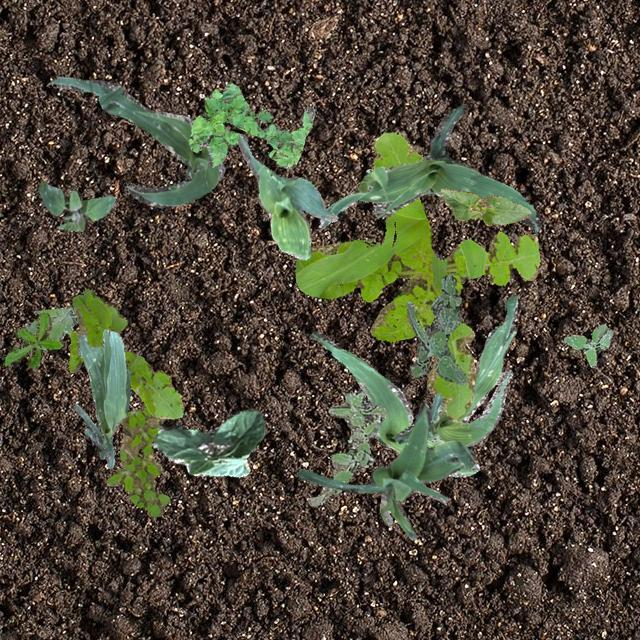crop: (318, 102, 540, 232), (310, 330, 478, 476), (296, 402, 474, 538), (46, 76, 224, 206), (394, 294, 516, 446), (236, 133, 336, 260), (72, 328, 130, 468), (150, 408, 266, 477), (440, 187, 530, 224)
weed: (294, 132, 538, 420), (68, 288, 182, 418), (188, 81, 314, 168), (306, 390, 386, 506), (104, 402, 168, 516), (404, 272, 466, 383), (36, 182, 114, 230), (2, 312, 62, 366), (562, 322, 612, 367), (24, 306, 78, 338)
